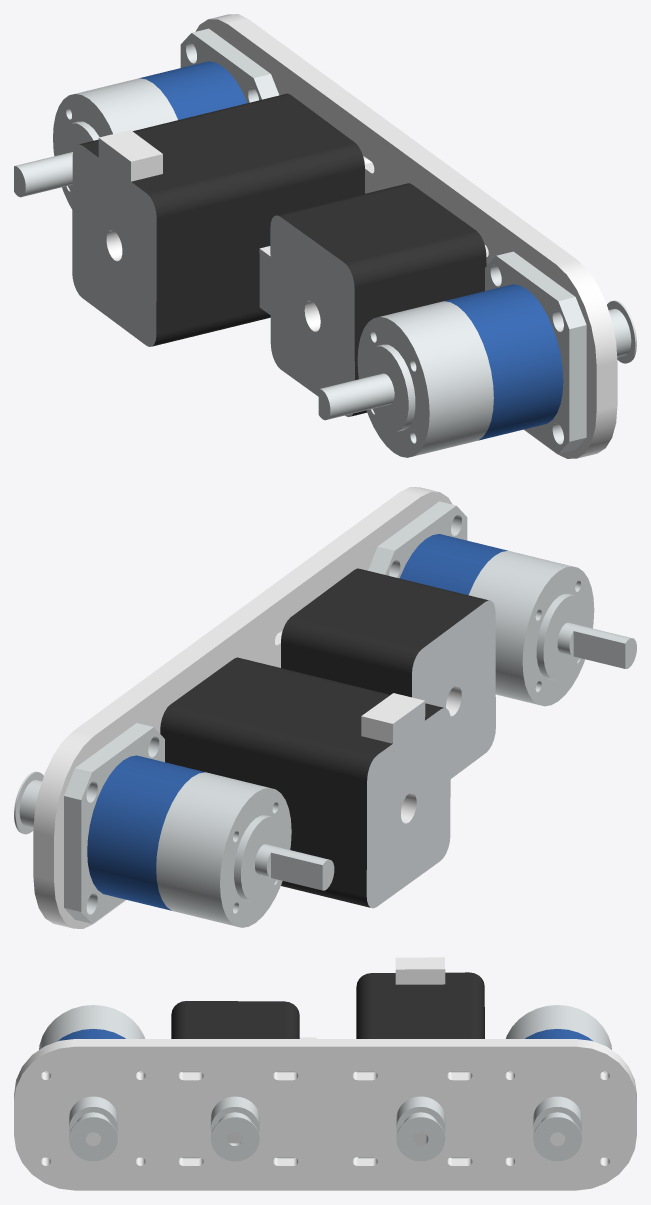
The model's file is axis1.fbx.
The picture shows the model from 3 angles, top to bottom: view 1: azimuth 30°, elevation 25°; view 2: azimuth 150°, elevation 25°; view 3: azimuth 270°, elevation 25°; orthographic projection. The views are drawn at different scales.
Parts seen in each view (by area): view 1: ÇÐ³ý-ÀÉì3 (×2), ÇÐ³ý-ÀÉì6 (×2), Ô²½Ç3, ÇÐ³ý-ÀÉì1; view 2: ÇÐ³ý-ÀÉì3 (×2), ÇÐ³ý-ÀÉì6 (×2), Ô²½Ç3, ÇÐ³ý-ÀÉì1; view 3: Ô²½Ç3, ÇÐ³ý-ÀÉì3 (×2), ÇÐ³ý-ÀÉì1 (×4), ÇÐ³ý-ÀÉì6 (×2).
Boxes of the visible parts, box(x1,y1,x2,y2) form: ÇÐ³ý-ÀÉì3 (×2): box(72, 93, 486, 416); ÇÐ³ý-ÀÉì6 (×2): box(14, 28, 586, 457); Ô²½Ç3: box(195, 14, 617, 458); ÇÐ³ý-ÀÉì1: box(607, 300, 636, 363); ÇÐ³ý-ÀÉì3 (×2): box(160, 568, 495, 908); ÇÐ³ý-ÀÉì6 (×2): box(64, 501, 636, 927); Ô²½Ç3: box(33, 487, 452, 928); ÇÐ³ý-ÀÉì1: box(14, 771, 43, 834); Ô²½Ç3: box(14, 1039, 636, 1190); ÇÐ³ý-ÀÉì3 (×2): box(171, 957, 484, 1158); ÇÐ³ý-ÀÉì1 (×4): box(69, 1096, 581, 1161); ÇÐ³ý-ÀÉì6 (×2): box(39, 1005, 611, 1157).
Bounding box in the file's own units: 3.39 × 2.07 × 8.03.
